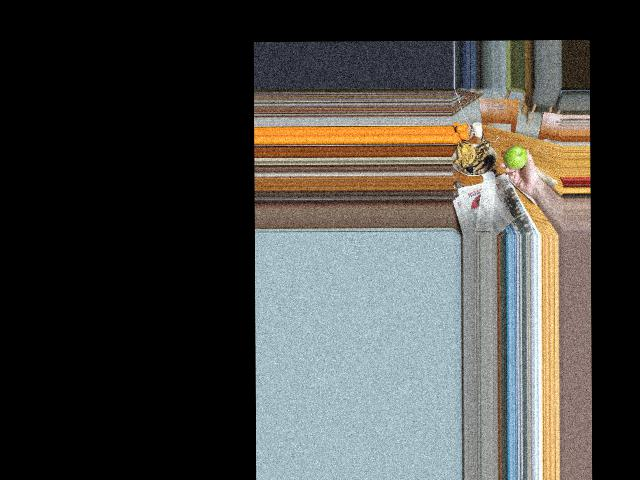apple: (504, 145, 527, 171)
